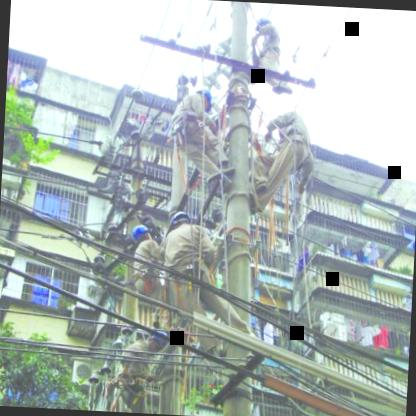helmet: (166, 207, 192, 238), (142, 328, 170, 353), (190, 85, 212, 113), (129, 223, 154, 247), (255, 14, 274, 36)
